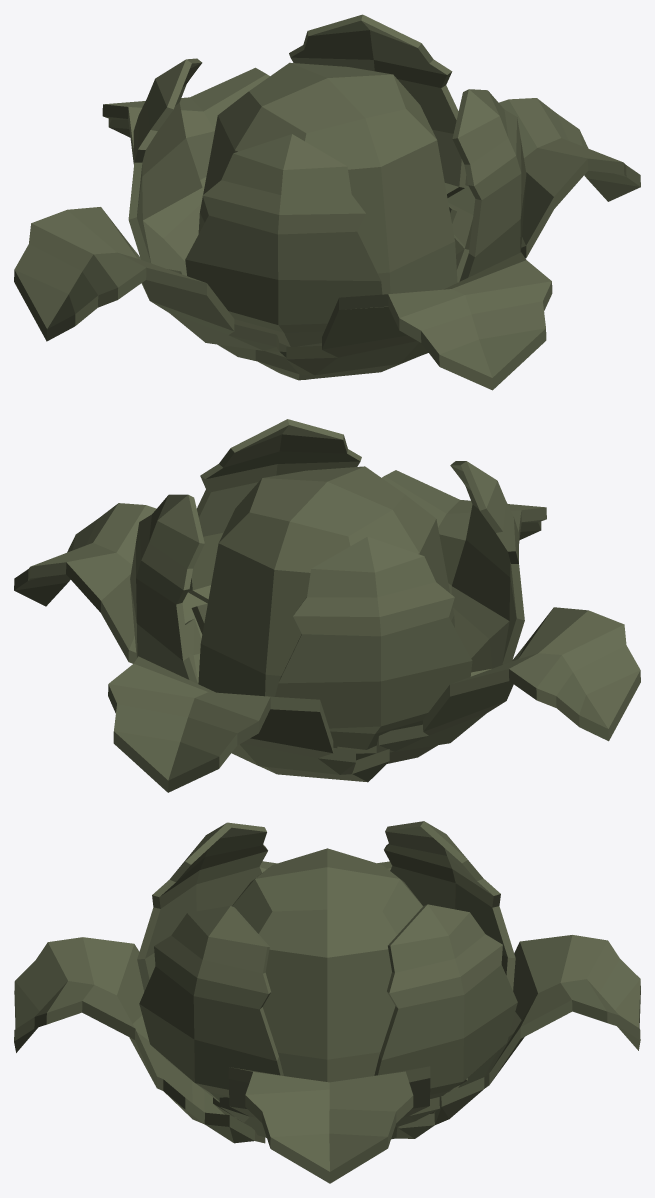
The model's file is Lettuce_4.glb.
The picture shows the model from 3 angles, top to bottom: view 1: azimuth 30°, elevation 25°; view 2: azimuth 150°, elevation 25°; view 3: azimuth 270°, elevation 25°; orthographic projection. The views are drawn at different scales.
Visible parts, largest first — view 1: Lettuce_4; view 2: Lettuce_4; view 3: Lettuce_4.
Part boxes in pixels (left/top/right/bottom): Lettuce_4: left=14, top=14, right=640, bottom=390; Lettuce_4: left=14, top=419, right=640, bottom=792; Lettuce_4: left=14, top=821, right=640, bottom=1183.
Bounding box in the file's own units: 1.04 × 0.4742 × 1.04.
